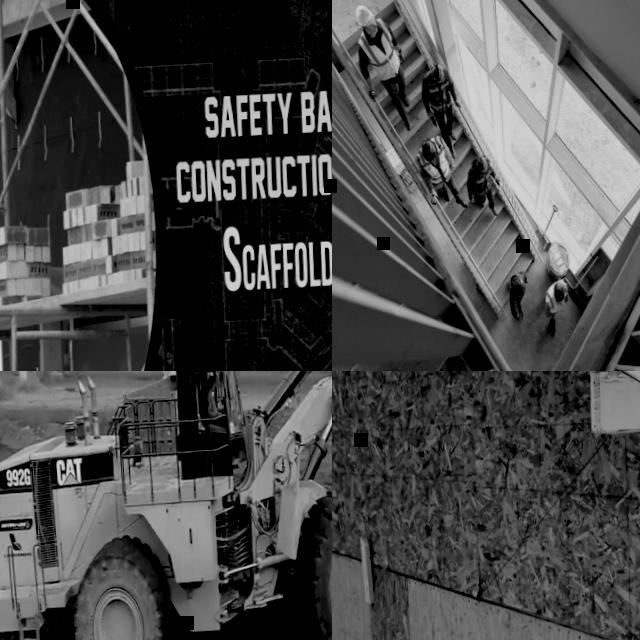Hardhat: (356, 5, 377, 27), (422, 137, 437, 162), (431, 62, 446, 86), (476, 155, 491, 176), (514, 276, 528, 296), (555, 282, 567, 301)
NO-Hardhat: (208, 374, 216, 384)
NO-Mask: (369, 29, 379, 35), (212, 385, 217, 392)
NO-Safety Vest: (207, 391, 217, 413)
Person: (355, 3, 415, 133), (421, 61, 466, 159), (416, 134, 472, 211), (466, 155, 504, 217), (545, 279, 572, 331), (509, 271, 532, 322), (206, 373, 227, 424)
Safety Vest: (356, 17, 402, 82), (416, 135, 452, 184), (424, 67, 453, 113), (545, 278, 570, 314), (470, 156, 493, 192)
machinery: (0, 371, 332, 640), (119, 371, 234, 464)
